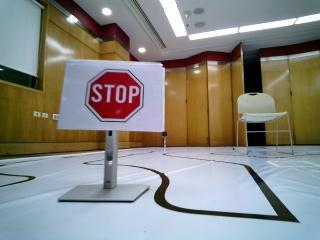stop: (70, 57, 161, 124)
